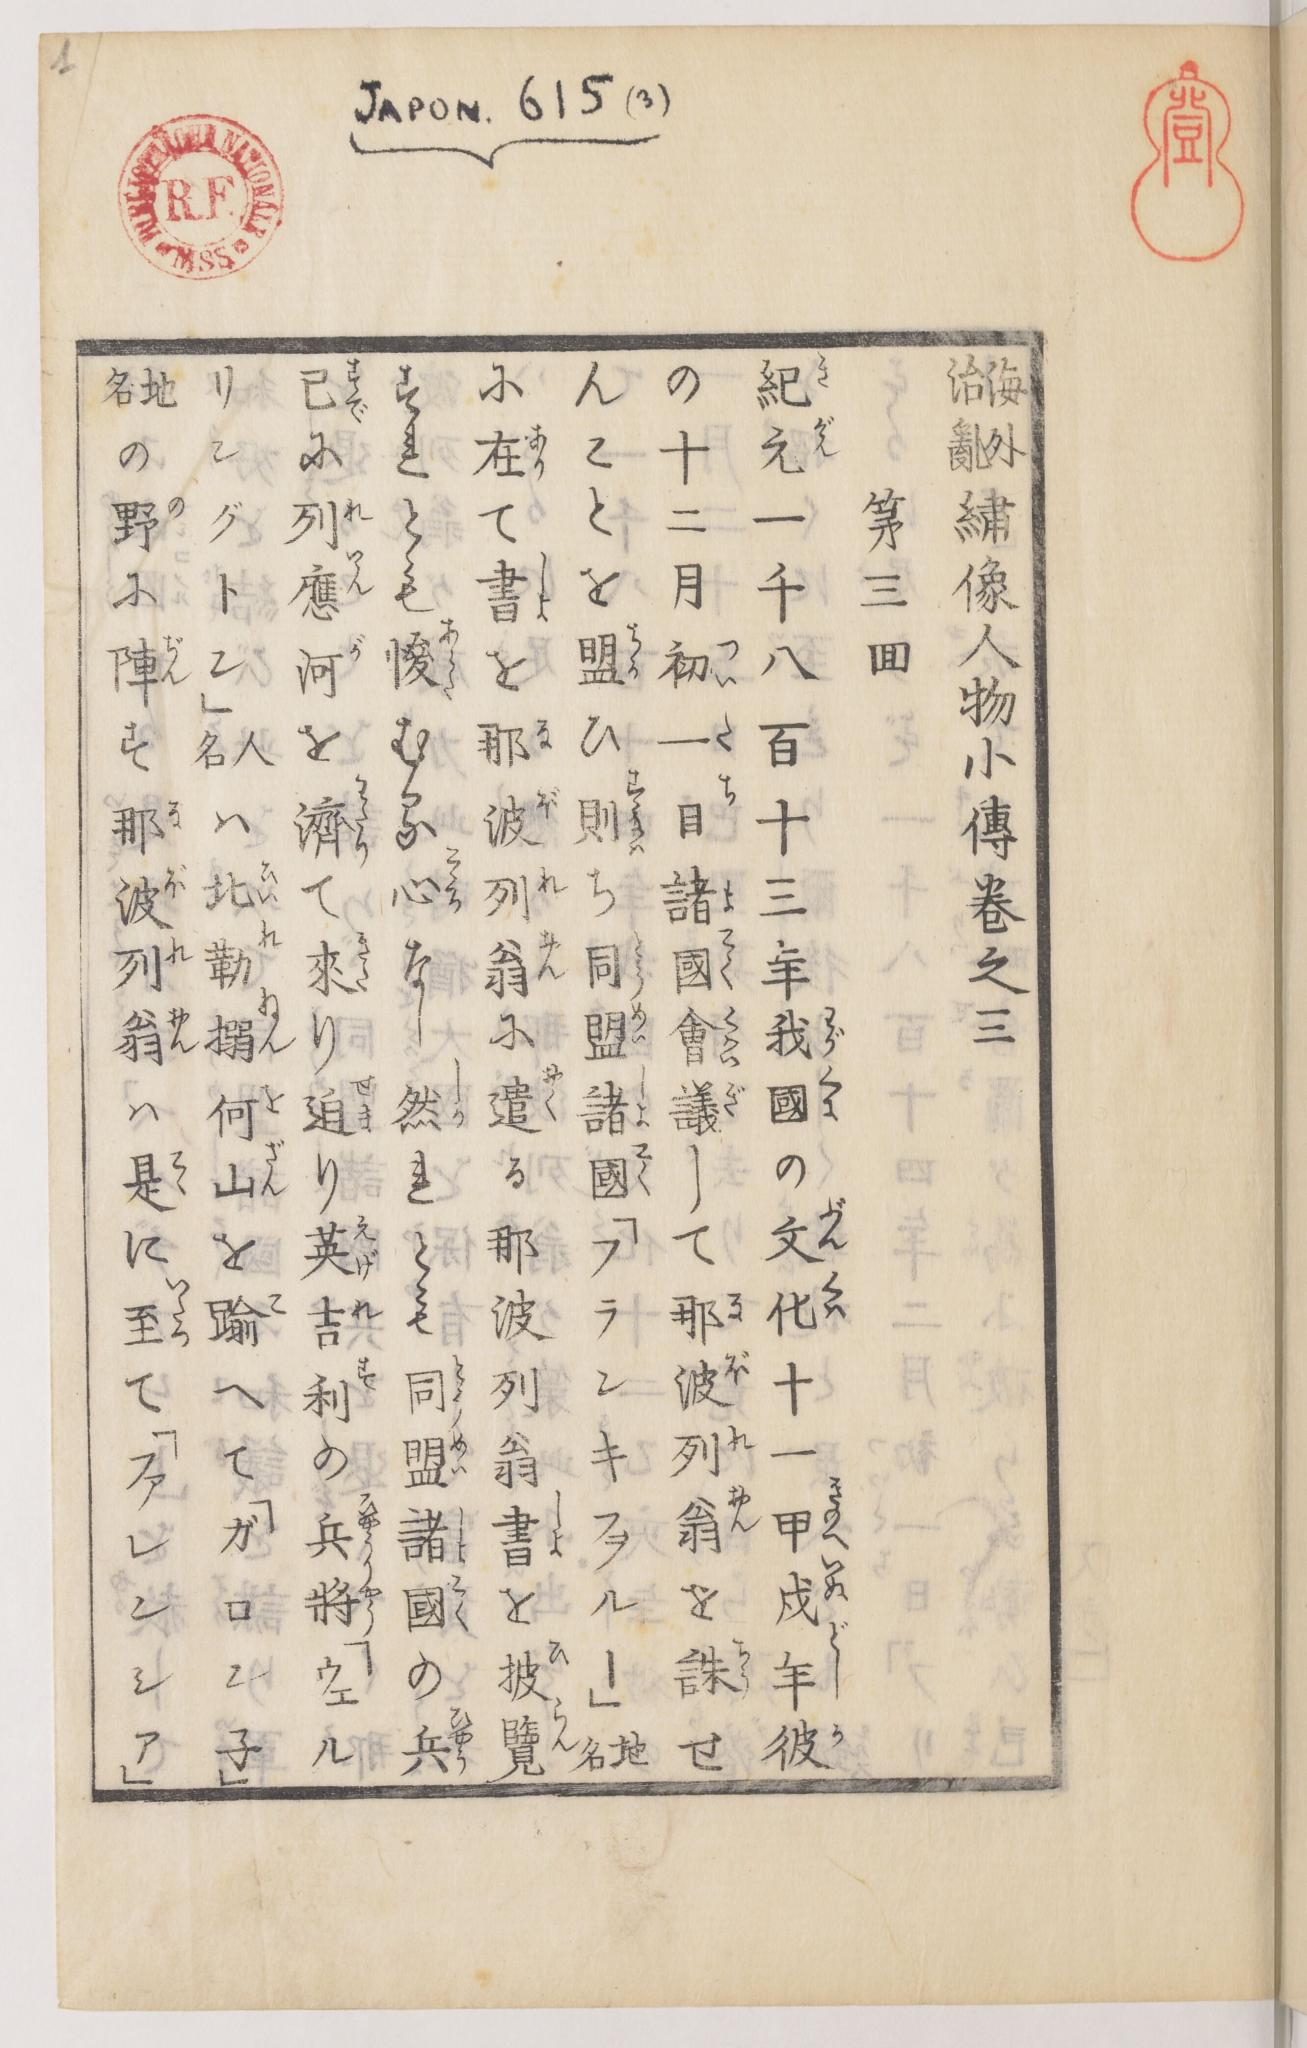MainZone-Character: (486, 1697, 580, 1788), (204, 987, 307, 1067), (291, 770, 374, 867), (574, 764, 653, 864), (771, 1621, 856, 1708), (380, 616, 468, 700), (470, 548, 560, 627), (288, 546, 382, 621), (303, 1488, 388, 1570), (662, 1349, 759, 1421), (103, 631, 192, 708), (477, 781, 570, 854), (673, 1484, 764, 1557), (292, 1217, 383, 1288), (285, 628, 373, 702), (767, 1194, 855, 1267), (398, 1708, 477, 1788), (765, 1714, 862, 1779), (106, 858, 192, 931), (773, 1473, 852, 1551), (107, 997, 198, 1064), (482, 928, 565, 1002), (485, 1063, 565, 1137), (755, 415, 846, 481), (571, 615, 649, 691), (300, 1355, 382, 1427), (204, 1287, 289, 1355), (391, 842, 468, 917), (306, 928, 380, 1006), (668, 1638, 756, 1703), (104, 484, 187, 554), (471, 708, 561, 772), (204, 921, 288, 990), (206, 1070, 291, 1137), (762, 1272, 853, 1334), (389, 1060, 463, 1137), (576, 1064, 655, 1136), (773, 1555, 852, 1627), (574, 1137, 662, 1202), (764, 1061, 846, 1130), (282, 490, 376, 549), (665, 1421, 759, 1481), (750, 352, 840, 415), (121, 1273, 195, 1348), (300, 1572, 386, 1636), (491, 1636, 573, 1703), (671, 1005, 750, 1073), (204, 1137, 285, 1205), (668, 767, 742, 840), (480, 864, 567, 925), (292, 357, 374, 421), (106, 937, 198, 994), (113, 1148, 189, 1217), (391, 1500, 467, 1569), (658, 631, 742, 693), (303, 1076, 382, 1140), (203, 855, 285, 917), (477, 422, 557, 485), (670, 1079, 750, 1140), (656, 869, 740, 927), (577, 1002, 655, 1064), (662, 1288, 750, 1343), (395, 1426, 468, 1491), (664, 928, 739, 991), (106, 794, 187, 851), (653, 708, 740, 760), (583, 931, 651, 997), (398, 1575, 470, 1635), (401, 1358, 466, 1424), (307, 1293, 380, 1349), (764, 1005, 837, 1060)
MainZone-Ruby: (252, 985, 298, 1057), (621, 763, 651, 861), (821, 1473, 852, 1552), (446, 1706, 480, 1778), (163, 1275, 195, 1349), (827, 1620, 856, 1700), (340, 357, 372, 428), (819, 1193, 855, 1255), (258, 1134, 289, 1203), (357, 1490, 383, 1569), (164, 1002, 200, 1060), (439, 616, 463, 703), (530, 546, 555, 625), (351, 770, 372, 866), (728, 1484, 770, 1532), (548, 1694, 580, 1754), (534, 927, 567, 985), (351, 931, 379, 999), (442, 840, 467, 915), (816, 1552, 853, 1603), (354, 1212, 380, 1282), (161, 631, 194, 688), (712, 634, 743, 691), (349, 1073, 377, 1134), (816, 1061, 843, 1126), (339, 549, 373, 599), (818, 1003, 849, 1057), (252, 854, 280, 912), (810, 413, 843, 463), (633, 1136, 658, 1199), (445, 1057, 467, 1127), (351, 1349, 383, 1397), (730, 1636, 753, 1700), (715, 928, 739, 991), (446, 1355, 467, 1427), (821, 1264, 847, 1320), (339, 491, 377, 528), (724, 1418, 761, 1457), (540, 1060, 562, 1121), (451, 1429, 476, 1482), (452, 1505, 474, 1564), (360, 1573, 382, 1633), (534, 778, 562, 824), (633, 1067, 653, 1130), (530, 424, 552, 482), (724, 1005, 743, 1072), (163, 858, 192, 902), (533, 714, 560, 761), (721, 1345, 756, 1381), (625, 615, 643, 685), (451, 1573, 471, 1633), (631, 931, 649, 999), (713, 766, 737, 815), (715, 706, 739, 755), (721, 1081, 749, 1121), (263, 1076, 288, 1118), (537, 863, 564, 899), (351, 1297, 383, 1326), (170, 1148, 189, 1196), (164, 937, 198, 964), (345, 627, 370, 663), (549, 1629, 571, 1669), (163, 490, 189, 522), (628, 1002, 649, 1043), (813, 352, 836, 390), (728, 1290, 749, 1329), (827, 1715, 847, 1751), (260, 918, 280, 954), (166, 794, 187, 830), (719, 879, 739, 914), (267, 1287, 286, 1320)
